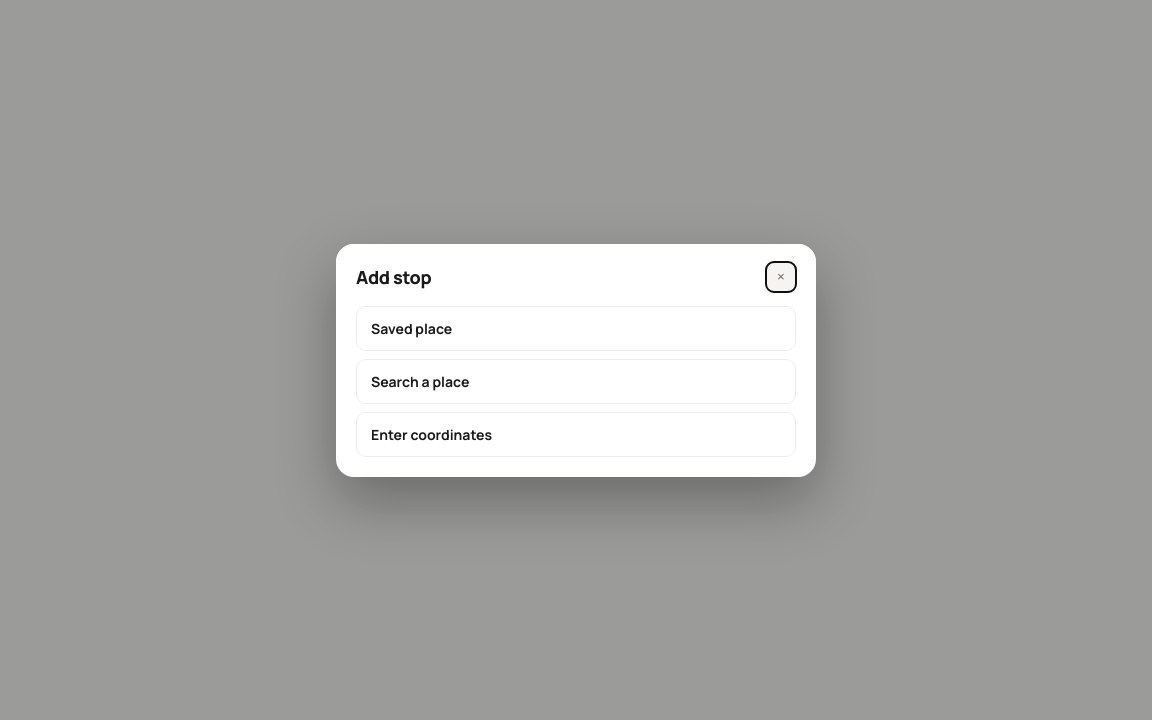
Scenario: AddPlaceModal › Back returns to the chooser
Click the button "Enter coordinates": (432, 434) top-left (356, 412), bottom-right (796, 456)
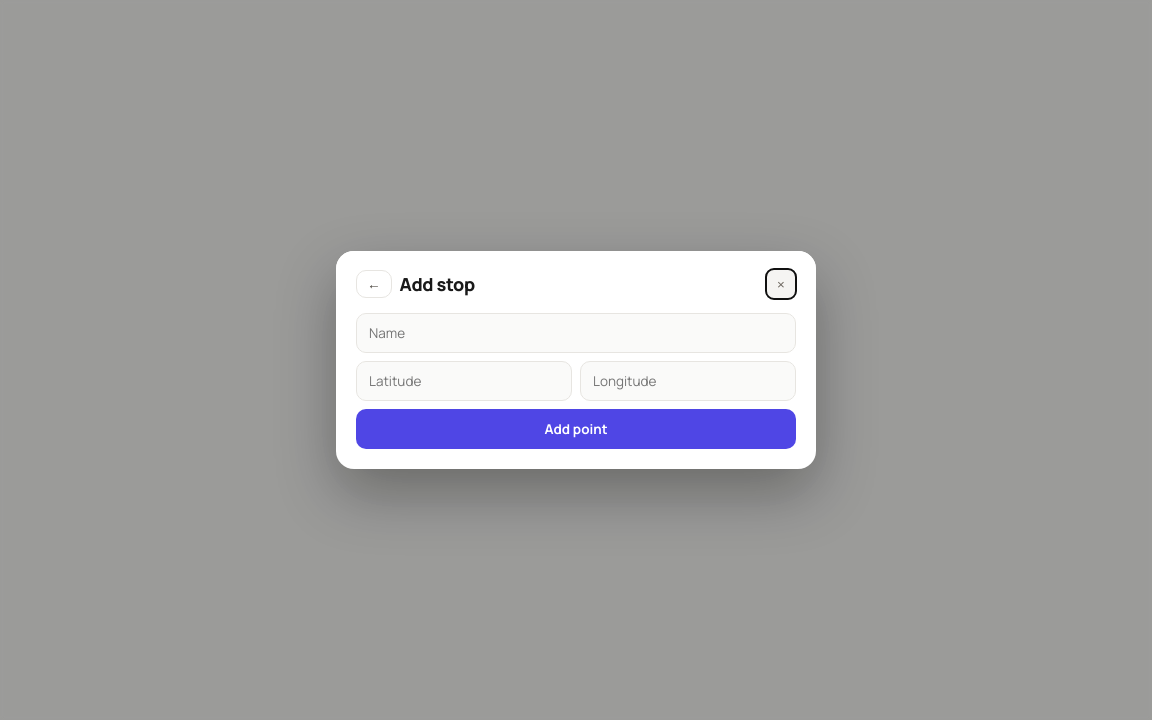
Click the button named "back": (374, 284) top-left (356, 270), bottom-right (392, 298)
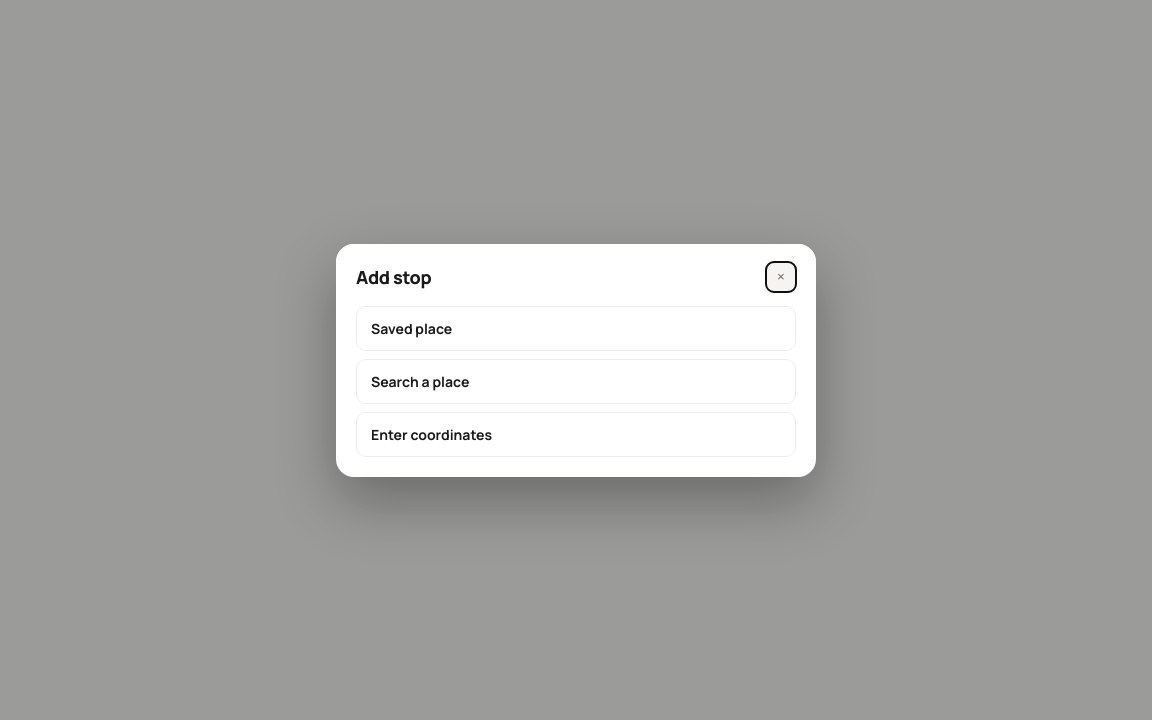
Result: the button "Saved place" is shown at top-left (356, 306), bottom-right (796, 350)
